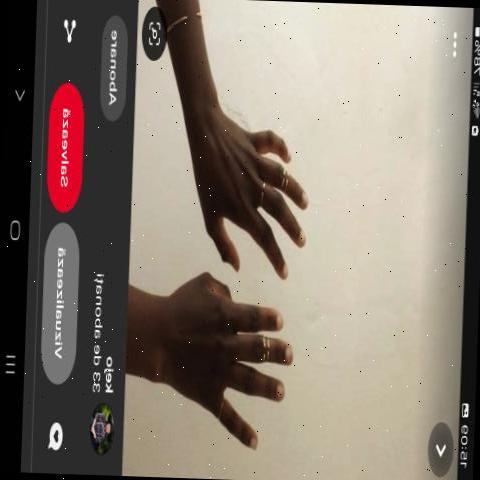Hands: (135, 265, 328, 469), (179, 69, 331, 288)
